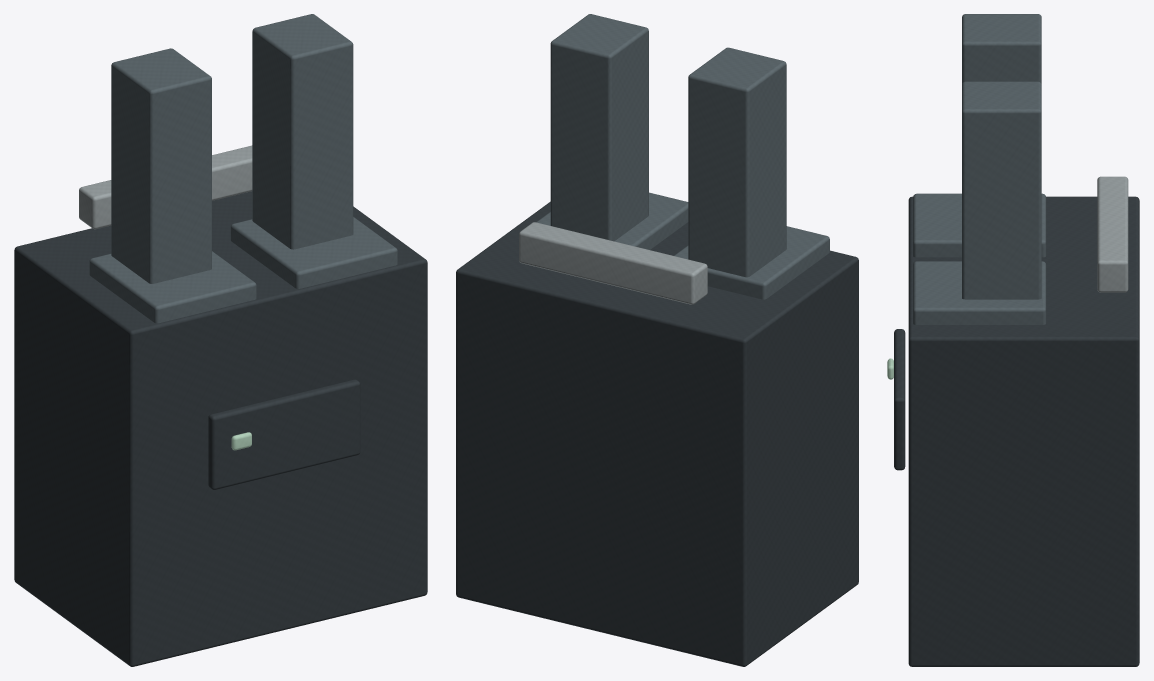
File: PortableRadioCharger.glb
3 renders of one model, left to right at view 1: azimuth 30°, elevation 25°; view 2: azimuth 150°, elevation 25°; view 3: azimuth 270°, elevation 25°, orthographic. The views are drawn at different scales.
Visible parts, largest first — view 1: PortableRadioCharger_Mesh; view 2: PortableRadioCharger_Mesh; view 3: PortableRadioCharger_Mesh.
Boxes of the visible parts, bbox=[...] form: PortableRadioCharger_Mesh: bbox=[14, 14, 427, 666]; PortableRadioCharger_Mesh: bbox=[456, 14, 858, 666]; PortableRadioCharger_Mesh: bbox=[887, 14, 1139, 666].
Bounding box in the file's own units: 0.76 × 1.33 × 0.5675.
4 materials, 4 textured.
